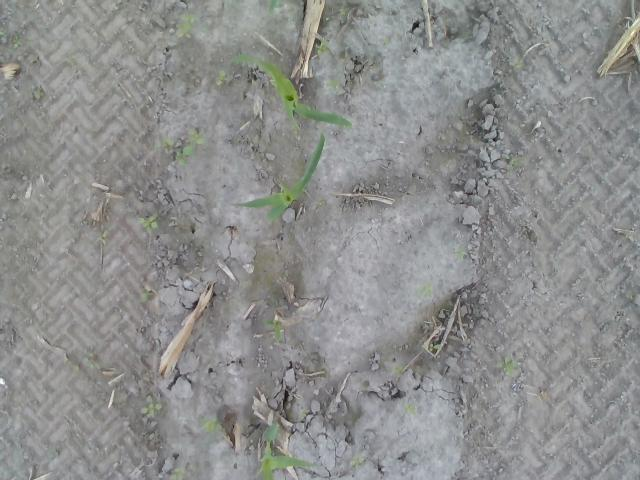Maize: (230, 52, 354, 128), (233, 132, 326, 226), (256, 422, 320, 480)
Weeds: (161, 130, 205, 166), (175, 13, 198, 40), (264, 318, 284, 342), (140, 400, 164, 419), (0, 31, 24, 50), (137, 214, 159, 230), (203, 416, 221, 433), (504, 358, 520, 376), (316, 38, 329, 56), (81, 352, 94, 368), (216, 69, 228, 86), (350, 456, 365, 469), (170, 467, 184, 480), (428, 342, 441, 353), (140, 290, 152, 301), (514, 58, 524, 70), (34, 88, 44, 99), (406, 405, 416, 415), (100, 230, 106, 244), (511, 159, 519, 169)
